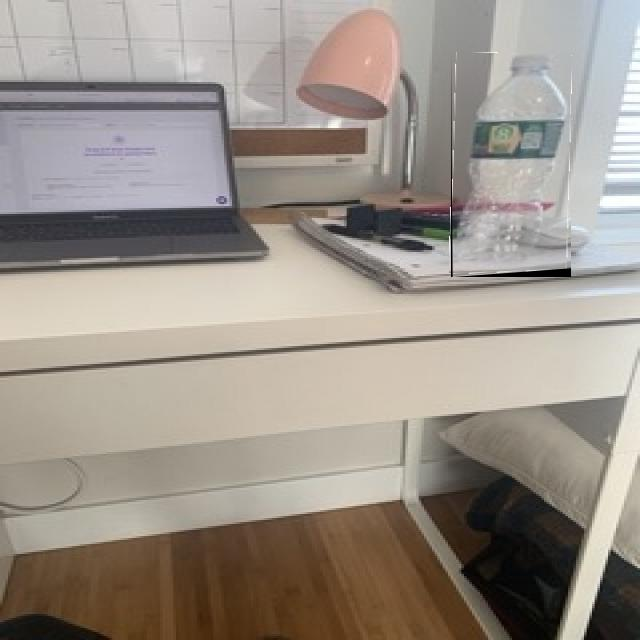water_bottle: (451, 53, 571, 277)
